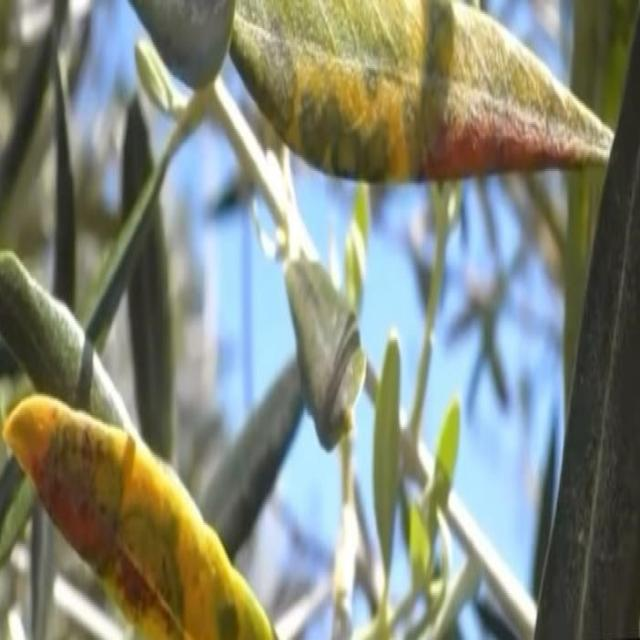Peacock Eye: (230, 0, 616, 180), (5, 394, 277, 638)
